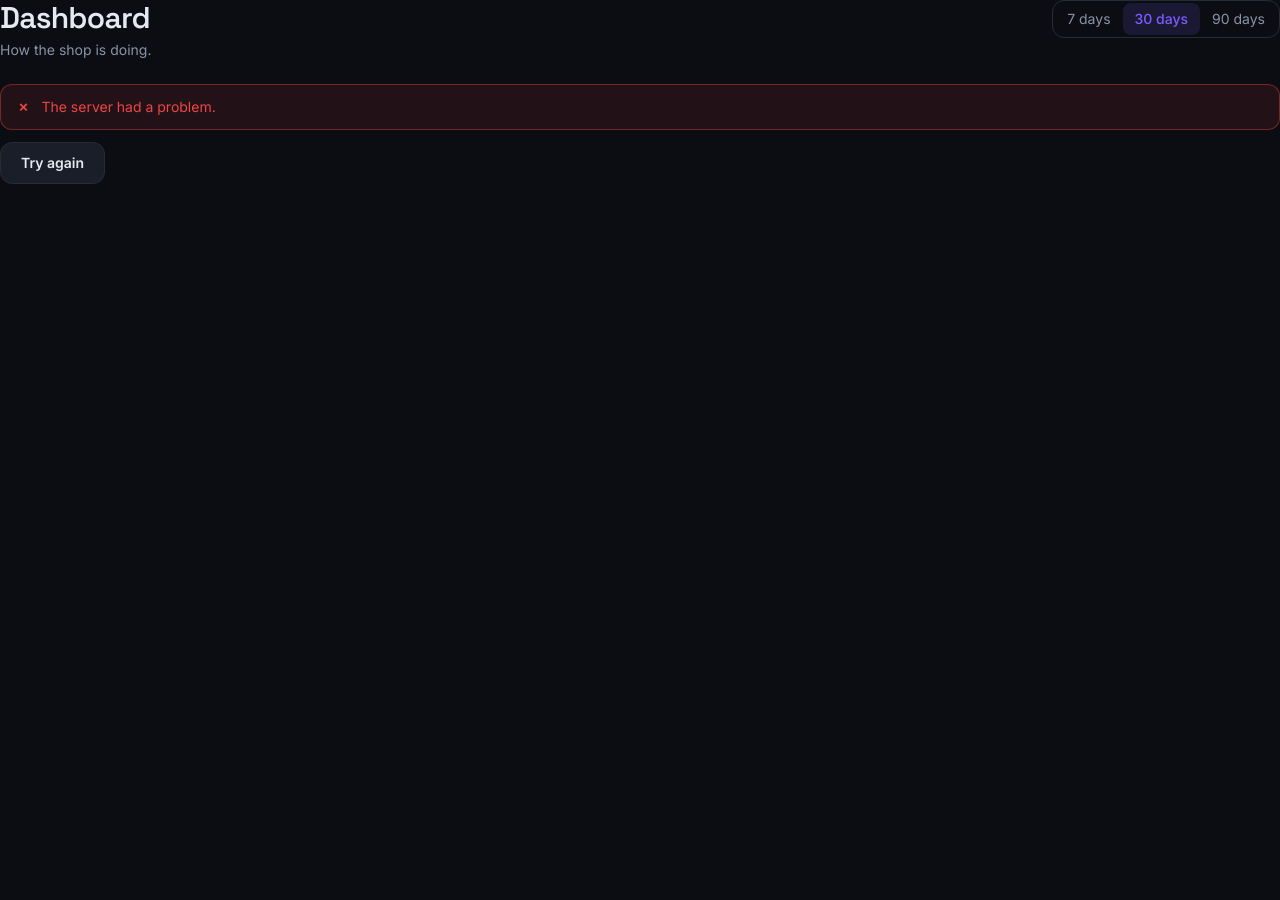
the dashboard › offers a retry when it cannot load
The width and height of the screenshot is (1280, 900).
Click the button "Try again" at (53, 163), box [0, 142, 105, 184]
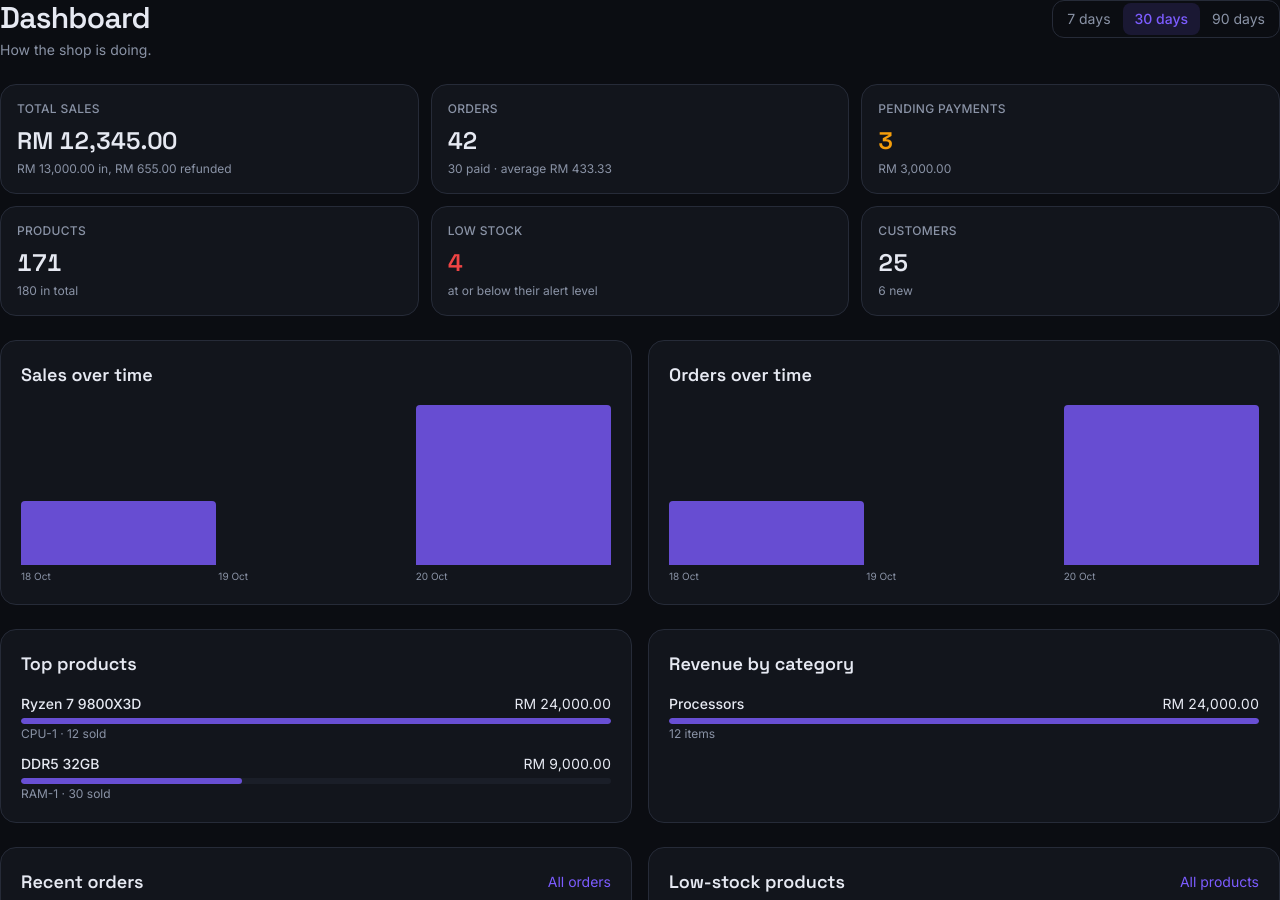
Check: the number of elements with test id "stat-card" is 6, box [0, 84, 419, 194]; [431, 84, 849, 194]; [861, 84, 1279, 194]; [0, 206, 419, 316]; [431, 206, 849, 316]; [861, 206, 1279, 316]
